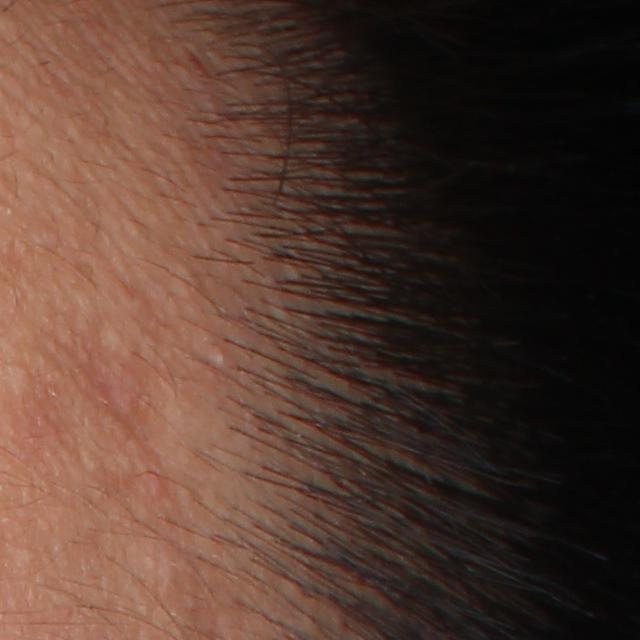comedo: (206, 339, 232, 369), (17, 549, 38, 565)
